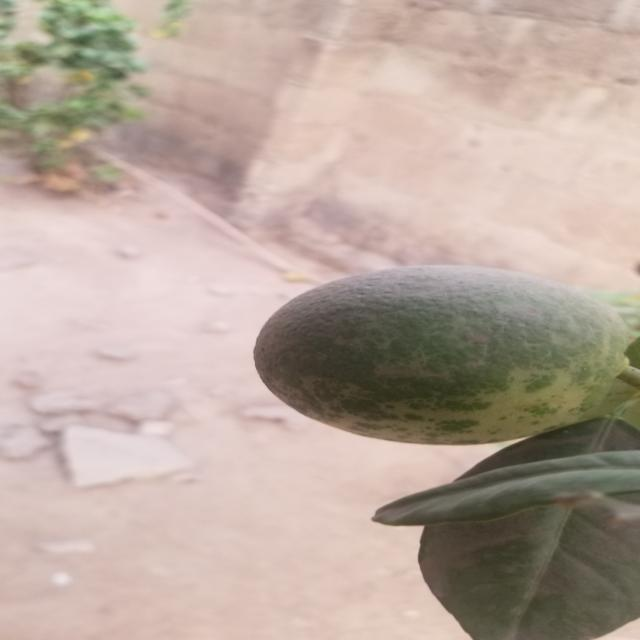Unripe: (262, 266, 634, 444)
